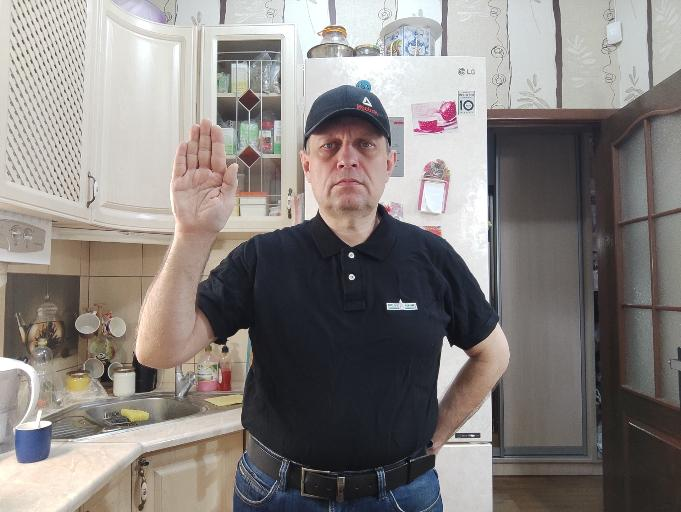stop: (167, 117, 240, 236)
